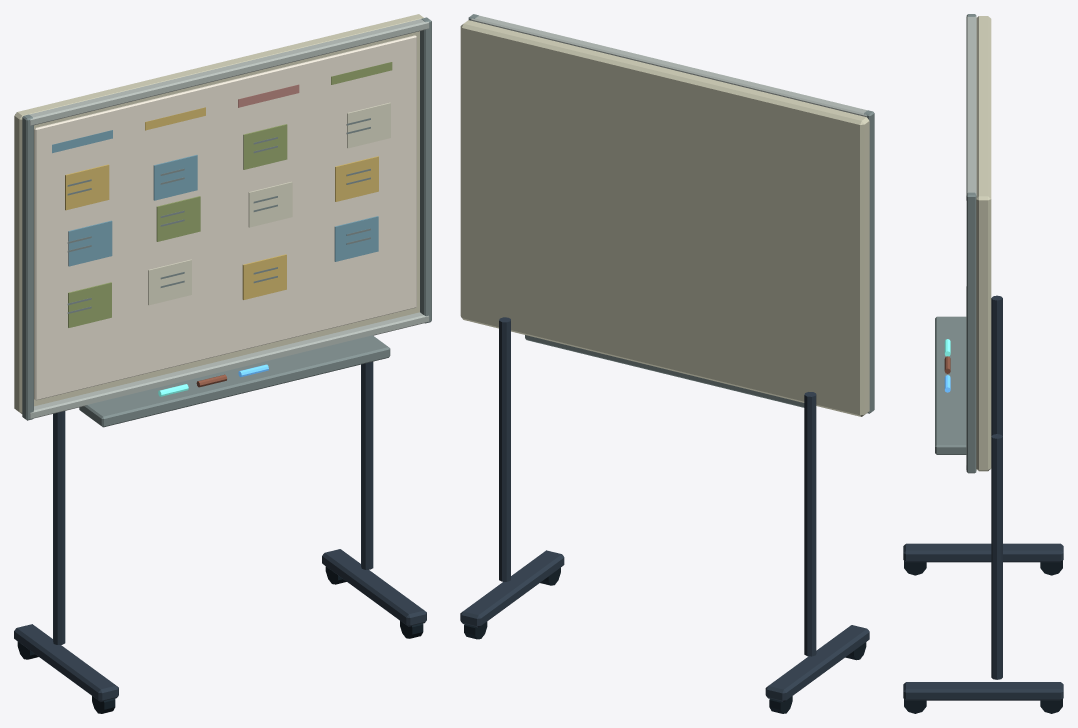
Rendered from whiteboard.glb.
The picture shows the model from 3 angles, left to right: view 1: azimuth 30°, elevation 25°; view 2: azimuth 150°, elevation 25°; view 3: azimuth 270°, elevation 25°; orthographic projection. The views are drawn at different scales.
Parts seen in each view (by area): view 1: whiteboard__white, whiteboard__metal_light, whiteboard__metal, whiteboard__stone, whiteboard__steel, whiteboard__sticky_blue, whiteboard__sticky_green, whiteboard__sticky_yellow, whiteboard__paper, whiteboard__black; view 2: whiteboard__stone, whiteboard__metal, whiteboard__metal_light, whiteboard__steel, whiteboard__black; view 3: whiteboard__metal, whiteboard__stone, whiteboard__metal_light, whiteboard__steel, whiteboard__black.
Part boxes in pixels (left/top/right/bottom): whiteboard__white: left=34, top=35, right=416, bottom=400; whiteboard__metal_light: left=22, top=17, right=431, bottom=427; whiteboard__metal: left=14, top=361, right=426, bottom=701; whiteboard__stone: left=14, top=14, right=423, bottom=413; whiteboard__steel: left=29, top=19, right=429, bottom=418; whiteboard__sticky_blue: left=52, top=130, right=378, bottom=266; whiteboard__sticky_green: left=68, top=62, right=392, bottom=327; whiteboard__sticky_yellow: left=65, top=107, right=378, bottom=299; whiteboard__paper: left=148, top=102, right=390, bottom=305; whiteboard__black: left=17, top=566, right=423, bottom=713; whiteboard__stone: left=460, top=20, right=869, bottom=416; whiteboard__metal: left=460, top=317, right=869, bottom=702; whiteboard__metal_light: left=468, top=14, right=874, bottom=413; whiteboard__steel: left=471, top=15, right=867, bottom=116; whiteboard__black: left=464, top=568, right=866, bottom=713; whiteboard__metal: left=903, top=295, right=1063, bottom=700; whiteboard__stone: left=976, top=16, right=991, bottom=471; whiteboard__metal_light: left=935, top=14, right=976, bottom=473; whiteboard__steel: left=966, top=16, right=976, bottom=470; whiteboard__black: left=904, top=561, right=1062, bottom=713.
Size of the model in its own units: 1.27 by 1.74 by 0.47.
